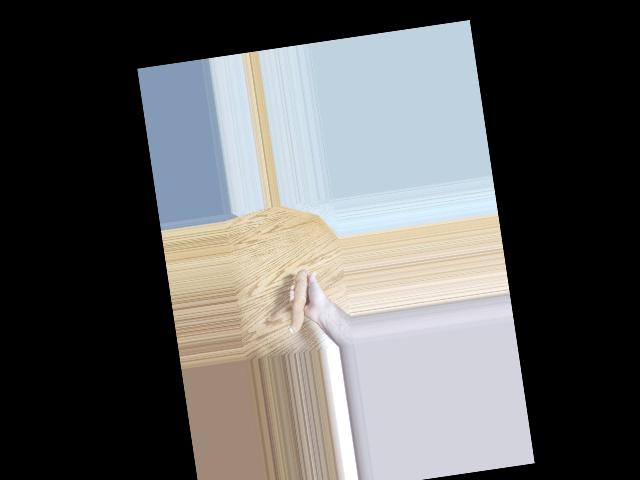sweet_potato: (290, 267, 316, 332)
